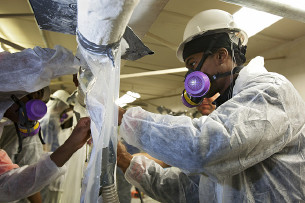face_mask: (184, 48, 224, 98)
